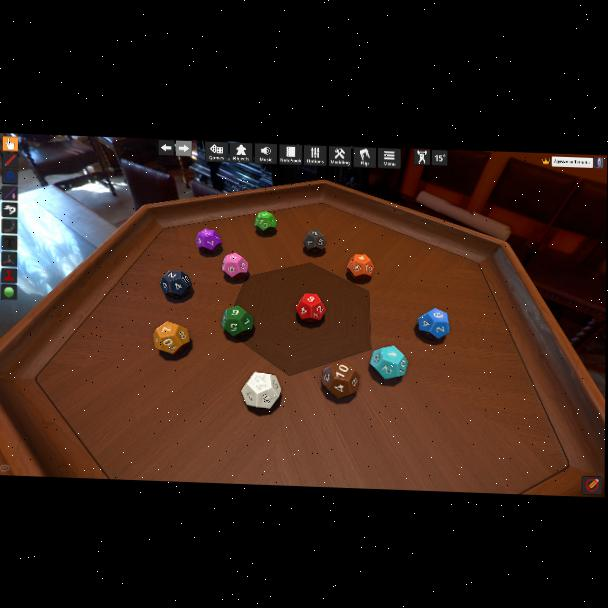d12: (241, 372, 281, 410), (321, 360, 358, 399), (154, 320, 191, 357), (369, 346, 406, 381), (417, 307, 448, 341), (221, 306, 253, 338), (161, 271, 193, 301), (296, 294, 323, 324), (346, 253, 372, 282), (222, 253, 248, 281), (196, 229, 221, 255), (304, 229, 325, 253), (255, 211, 276, 233)
